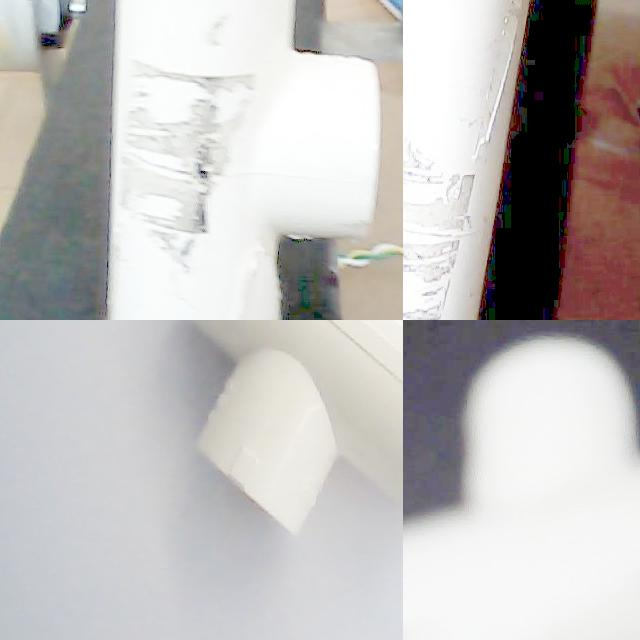Defective: (119, 29, 248, 273), (403, 0, 524, 185), (403, 138, 464, 320), (231, 235, 288, 320)
T Joint: (107, 0, 381, 320), (403, 343, 640, 640), (185, 320, 403, 535), (403, 0, 534, 320)
